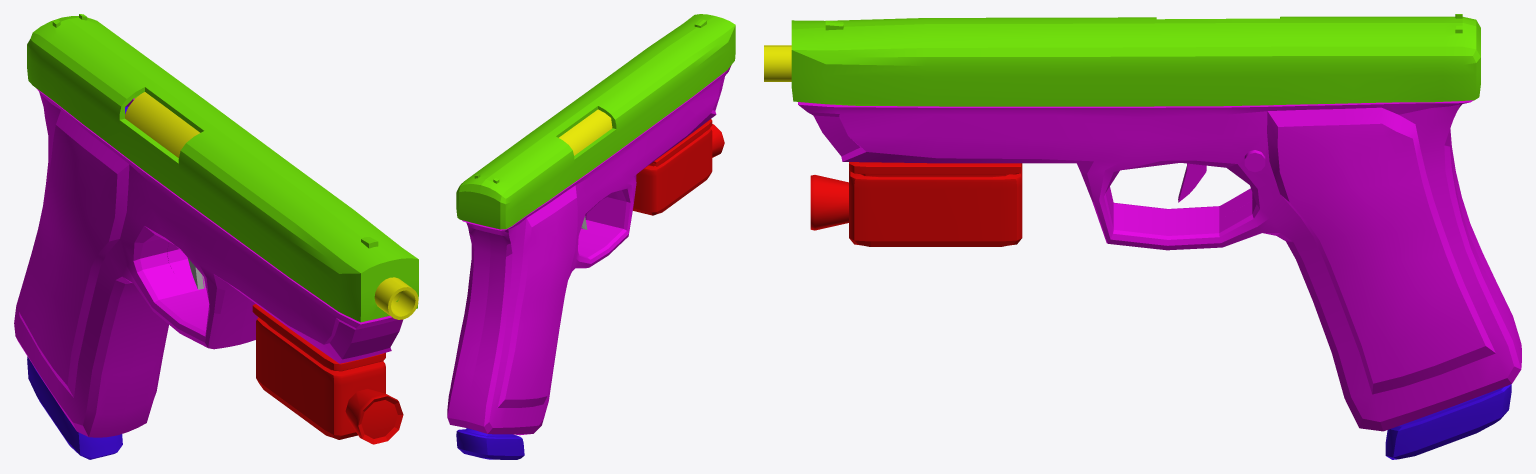
File: guns.fbx
The picture shows the model from 3 angles, left to right: view 1: azimuth 30°, elevation 25°; view 2: azimuth 150°, elevation 25°; view 3: azimuth 270°, elevation 25°; orthographic projection. The views are drawn at different scales.
Parts seen in each view (by area): view 1: polySurface18; view 2: polySurface18; view 3: polySurface18.
Part boxes in pixels (x1=…): polySurface18: x1=14, y1=14, x2=418, y2=459; polySurface18: x1=447, y1=14, x2=735, y2=459; polySurface18: x1=764, y1=14, x2=1521, y2=459.
Bounding box in the file's own units: 1.77 × 7.14 × 11.31.
